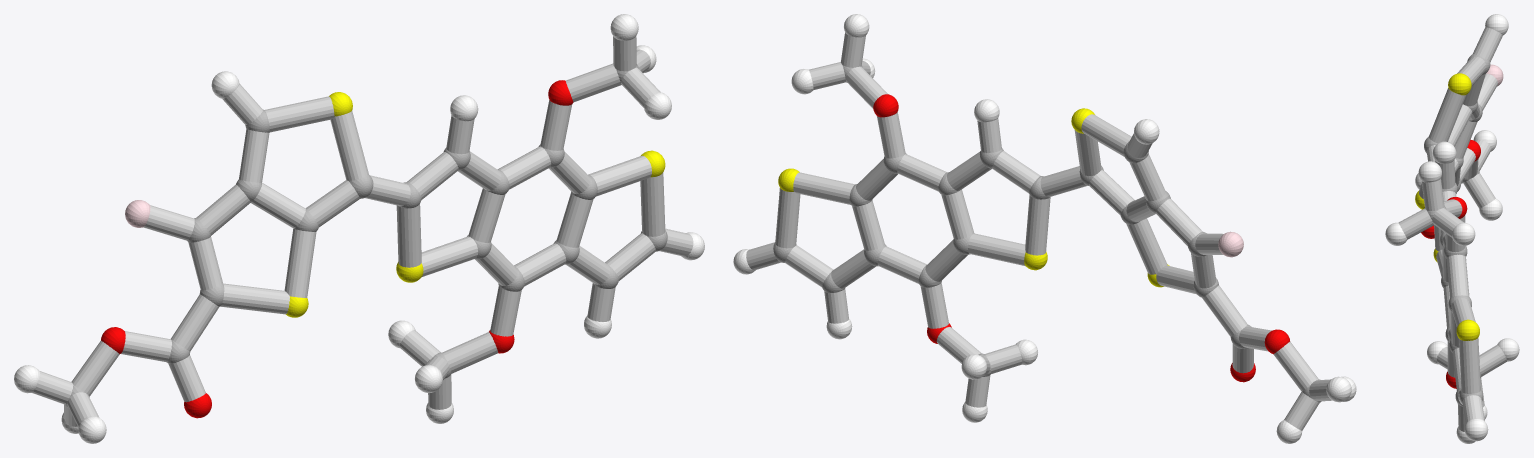
The model's file is Dimethoxy_Benzodithiophene_Phi_30_Theta_10_Methylcarbonyl_3_Fluoro_Thienothiophene.glb.
The picture shows the model from 3 angles, left to right: view 1: azimuth 30°, elevation 25°; view 2: azimuth 150°, elevation 25°; view 3: azimuth 270°, elevation 25°; orthographic projection. The views are drawn at different scales.
Parts seen in each view (by area): view 1: grp15205, grp8689, grp1, grp13395, grp7241; view 2: grp15205, grp8689, grp1, grp13395, grp7241; view 3: grp15205, grp8689, grp1, grp7241, grp13395, grp14843.
Part boxes in pixels (x1,y1,x2,y2): grp15205: (31,36,693,427); grp8689: (14,14,704,443); grp1: (65,64,667,407); grp13395: (101,80,573,418); grp7241: (286,92,665,317); grp15205: (746,32,1331,430); grp8689: (733,14,1356,443); grp1: (773,65,1321,402); grp13395: (873,94,1289,382); grp7241: (778,108,1169,287); grp15205: (1398,27,1507,431); grp8689: (1385,14,1519,443); grp1: (1424,54,1490,406); grp7241: (1415,73,1479,340); grp13395: (1421,139,1480,388); grp14843: (1486,64,1503,86).
Size of the model in its own units: 16.75 by 9.15 by 3.41.
